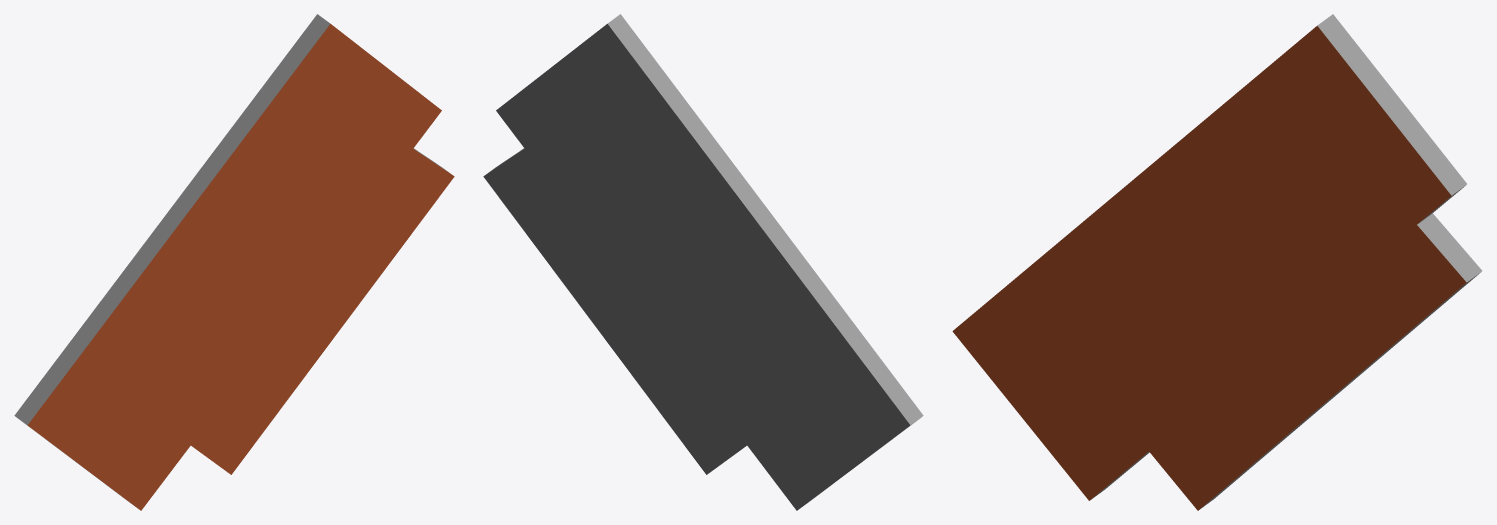
File: construction_0137_assumed_A_Grande_construcao_h6m.obj
3 views of the same model, side by side, from view 1: azimuth 30°, elevation 25°; view 2: azimuth 150°, elevation 25°; view 3: azimuth 330°, elevation 25° (orthographic). The views are drawn at different scales.
Parts seen in each view (by area): view 1: construction_0137_assumed_A_Grande_construcao; view 2: construction_0137_assumed_A_Grande_construcao; view 3: construction_0137_assumed_A_Grande_construcao.
Part boxes in pixels (x1,y1,x2,y2): construction_0137_assumed_A_Grande_construcao: (14, 14, 454, 510); construction_0137_assumed_A_Grande_construcao: (483, 14, 923, 510); construction_0137_assumed_A_Grande_construcao: (952, 14, 1482, 510).
Bounding box in the file's own units: 112 × 111 × 6.
